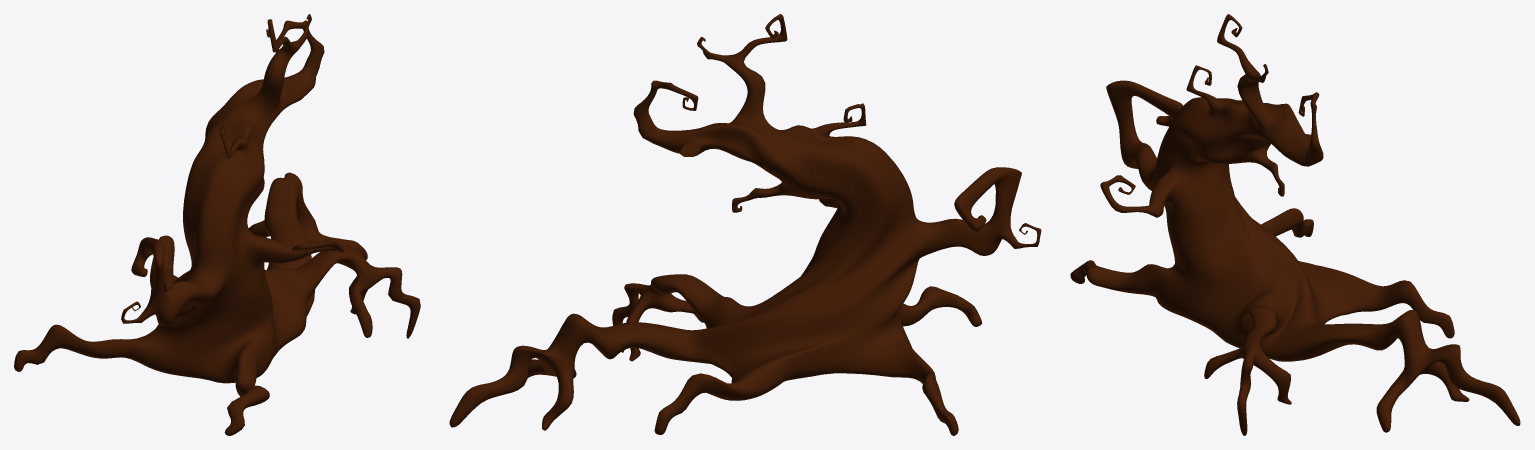
The model's file is Tree_2_15K.fbx.
3 renders of one model, left to right at view 1: azimuth 30°, elevation 25°; view 2: azimuth 150°, elevation 25°; view 3: azimuth 270°, elevation 25°, orthographic. The views are drawn at different scales.
Parts seen in each view (by area): view 1: Tree 2 15K; view 2: Tree 2 15K; view 3: Tree 2 15K.
Part boxes in pixels (x1,y1,x2,y2): Tree 2 15K: [14, 14, 420, 435]; Tree 2 15K: [449, 14, 1041, 435]; Tree 2 15K: [1070, 14, 1520, 435].
Bounding box in the file's own units: 590 × 517 × 600.
